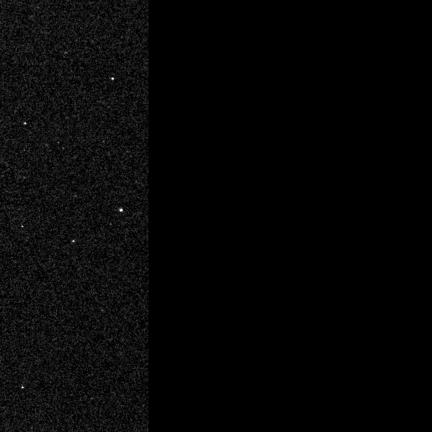blob: (111, 77, 115, 81), (119, 208, 123, 212), (24, 122, 27, 126), (21, 386, 25, 389), (72, 240, 76, 243)
